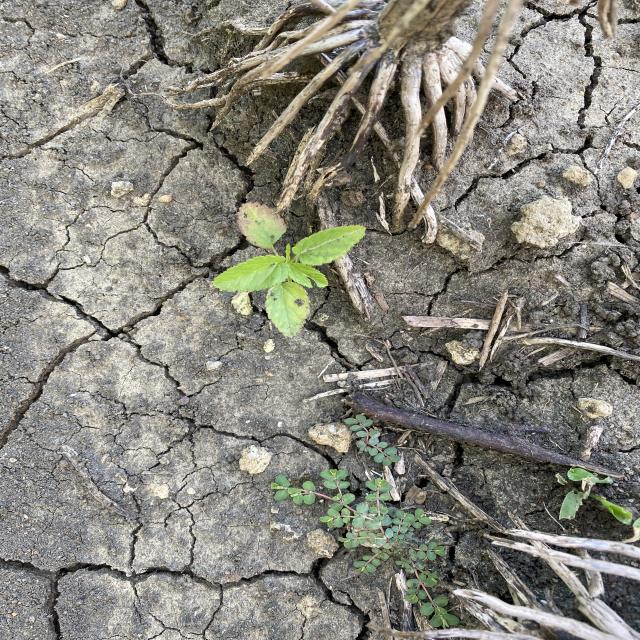PricklySida: (210, 201, 368, 340)
SpottedSpurge: (268, 413, 462, 630)
